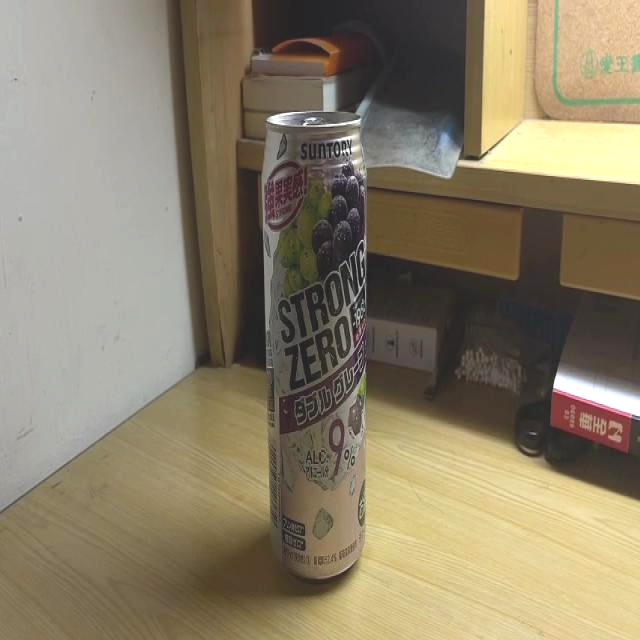Liquor: (262, 113, 372, 580)
